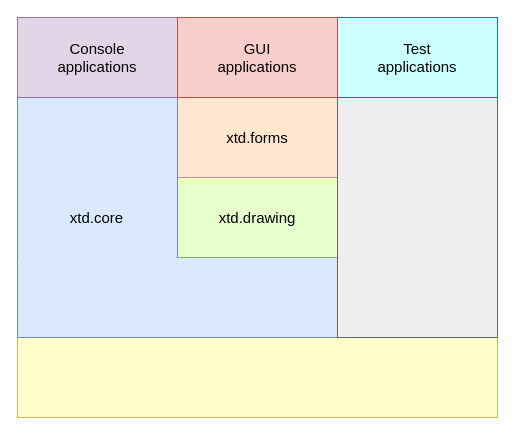
This 515x435 diagram has some shape labels left out. Each missing label, with the box of its shape:
Operating System / c++ standard library: (16, 336, 498, 418)
xtd.tunit: (336, 96, 498, 338)
